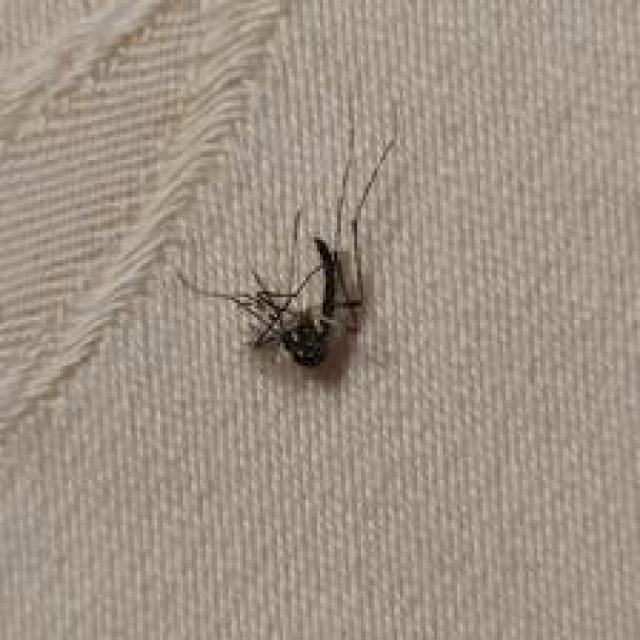Aedes albopictus: (174, 121, 397, 370)
